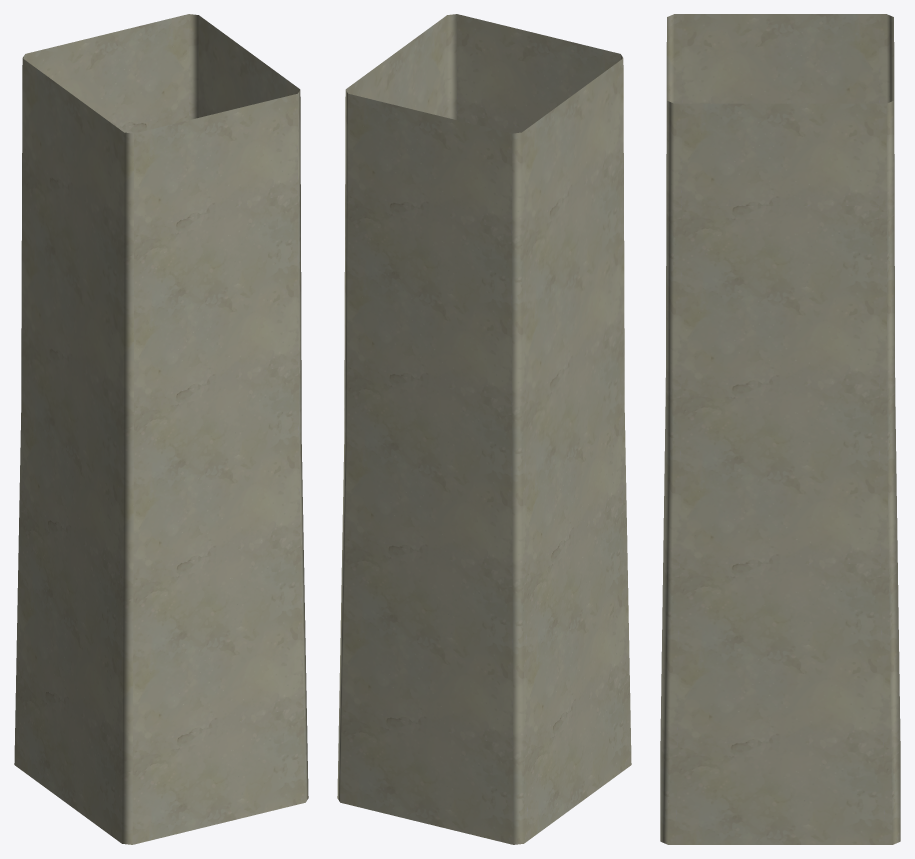
File: A_TowerUnique_B.fbx
3 renders of one model, left to right at view 1: azimuth 30°, elevation 25°; view 2: azimuth 150°, elevation 25°; view 3: azimuth 270°, elevation 25°, orthographic. The views are drawn at different scales.
Visible parts, largest first — view 1: A_TowerUnique_B; view 2: A_TowerUnique_B; view 3: A_TowerUnique_B.
Boxes of the visible parts, x1,y1,x2,y2 form: A_TowerUnique_B: [14, 14, 308, 844]; A_TowerUnique_B: [337, 14, 631, 844]; A_TowerUnique_B: [660, 14, 900, 844].
Size of the model in its own units: 233 by 844 by 249.
